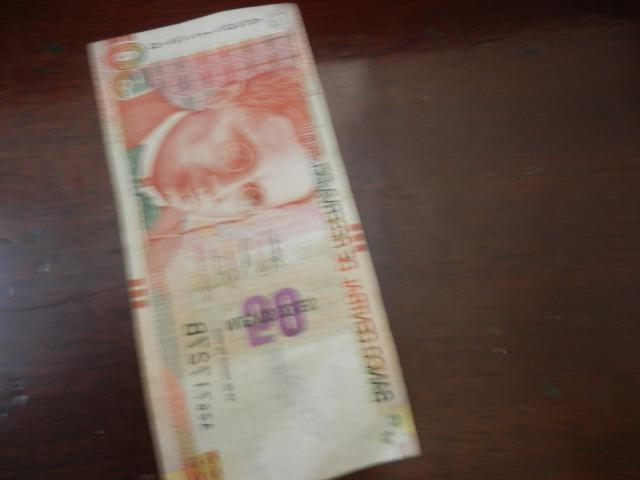B50: (88, 7, 423, 480)
